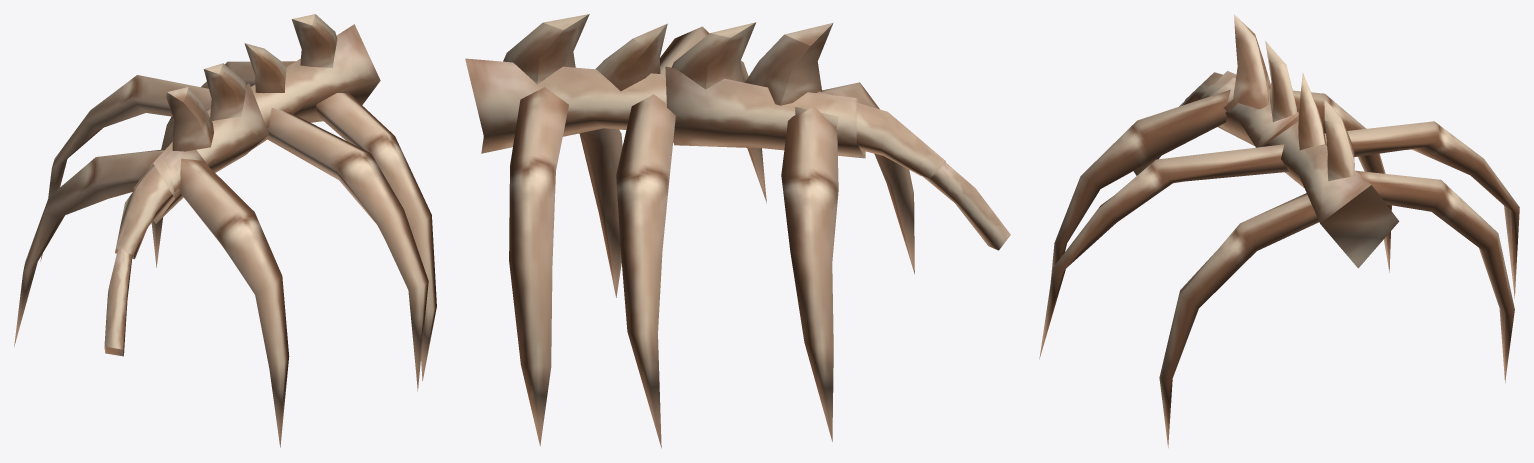
File: gutou07.FBX
The picture shows the model from 3 angles, left to right: view 1: azimuth 30°, elevation 25°; view 2: azimuth 150°, elevation 25°; view 3: azimuth 270°, elevation 25°; orthographic projection. The views are drawn at different scales.
Visible parts, largest first — view 1: wujian; view 2: wujian; view 3: wujian.
Part boxes in pixels (x1,y1,x2,y2): wujian: (14,14,436,447); wujian: (465,14,1010,448); wujian: (1039,14,1519,447).
Bounding box in the file's own units: 144 × 121 × 162.
